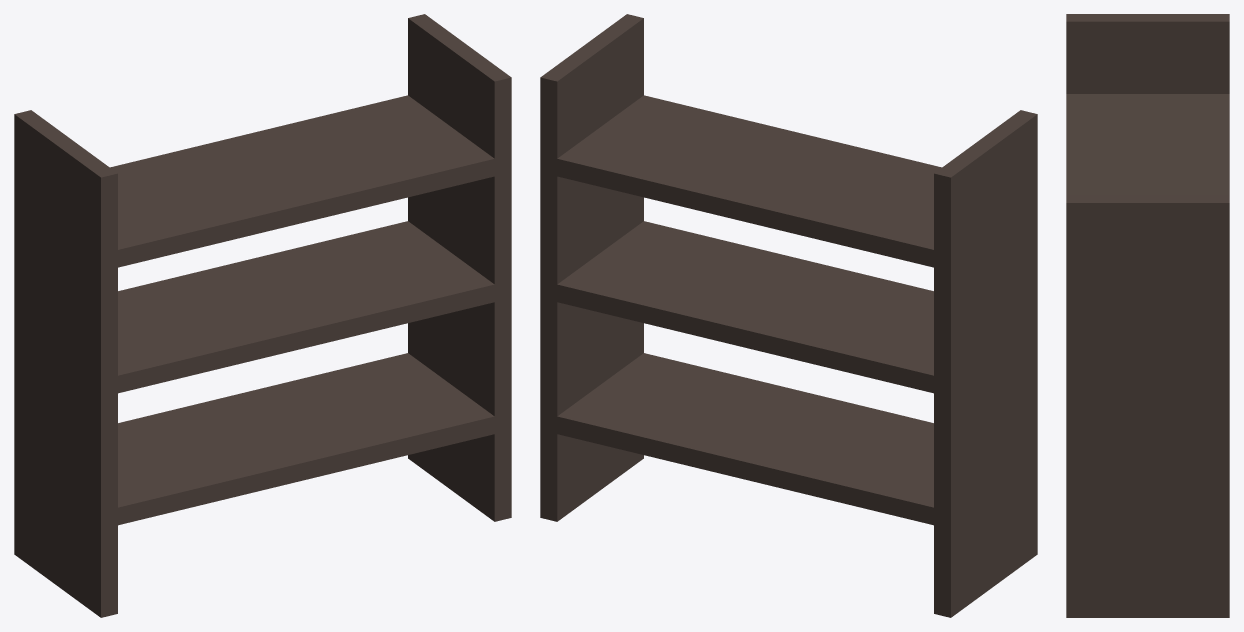
The model's file is urp 1.fbx.
3 views of the same model, side by side, from view 1: azimuth 30°, elevation 25°; view 2: azimuth 150°, elevation 25°; view 3: azimuth 270°, elevation 25° (orthographic). The views are drawn at different scales.
Visible parts, largest first — view 1: urp 1; view 2: urp 1; view 3: urp 1.
Part boxes in pixels (x1,y1,x2,y2): urp 1: [14, 14, 511, 617]; urp 1: [540, 14, 1037, 617]; urp 1: [1066, 14, 1229, 617].
Size of the model in its own units: 316 by 323 by 115.
